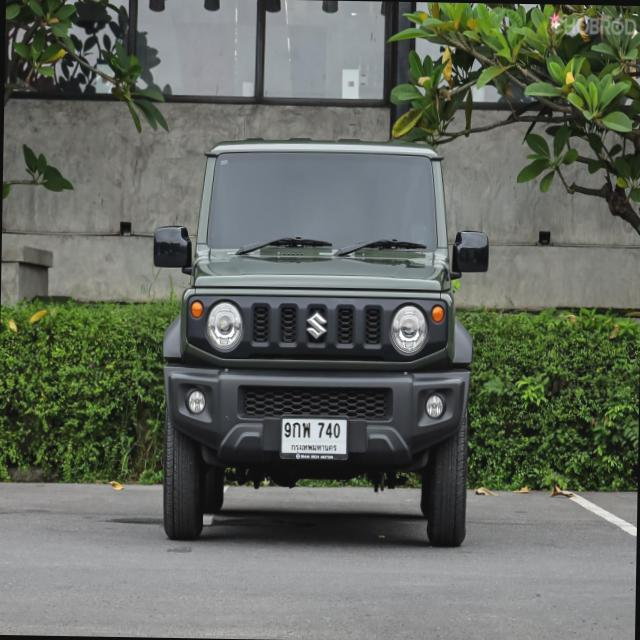license_plate: (279, 415, 348, 462)
